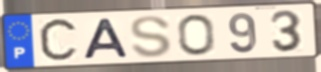3: (269, 8, 306, 54)
9: (226, 12, 259, 55)
A: (81, 17, 131, 61)
C: (37, 15, 81, 66)
O: (175, 13, 217, 57)
S: (128, 14, 174, 60)
